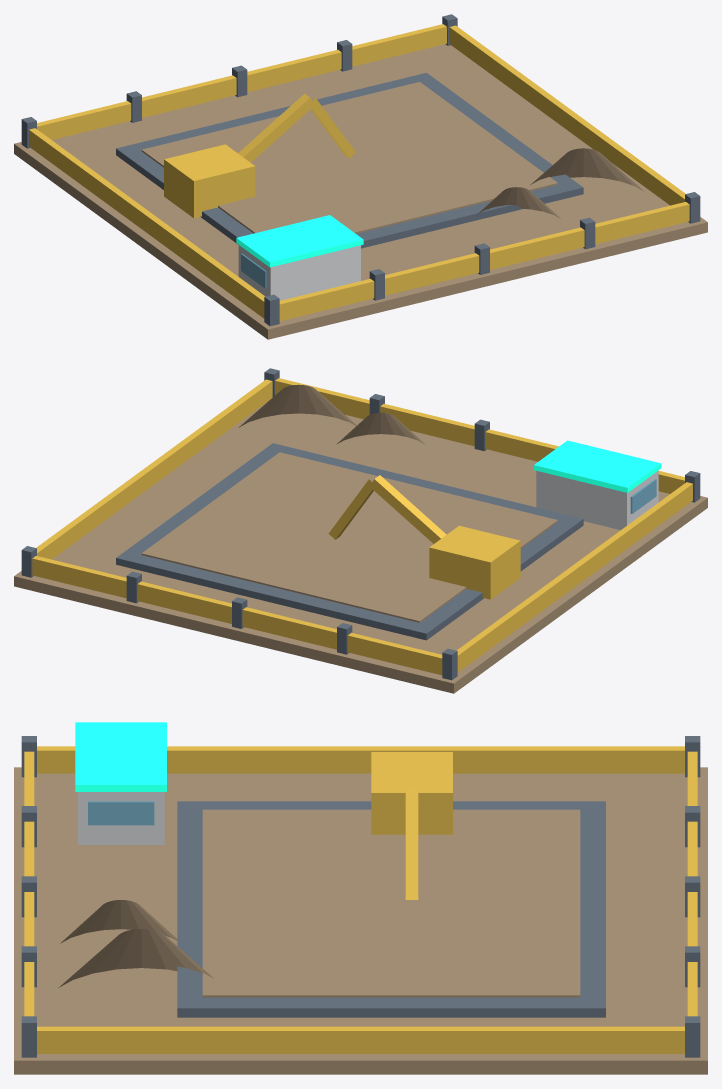
Rendered from stage_2_groundworks.master.glb.
3 renders of one model, top to bottom at view 1: azimuth 30°, elevation 25°; view 2: azimuth 150°, elevation 25°; view 3: azimuth 270°, elevation 25°, orthographic. The views are drawn at different scales.
Parts seen in each view (by area): view 1: stage_2_groundworks_master; view 2: stage_2_groundworks_master; view 3: stage_2_groundworks_master.
Boxes of the visible parts, x1,y1,x2,y2 form: stage_2_groundworks_master: (14, 14, 707, 339); stage_2_groundworks_master: (14, 368, 707, 693); stage_2_groundworks_master: (14, 722, 707, 1074).
Bounding box in the file's own units: 2.72 × 0.5455 × 2.72.
